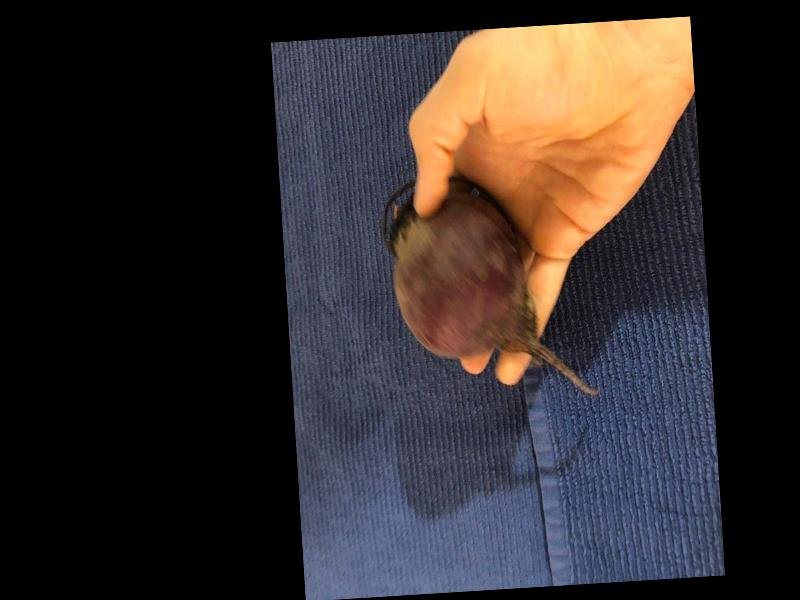Beet: (379, 169, 599, 409)
